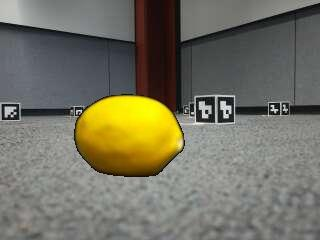lemon: (77, 97, 184, 178)
